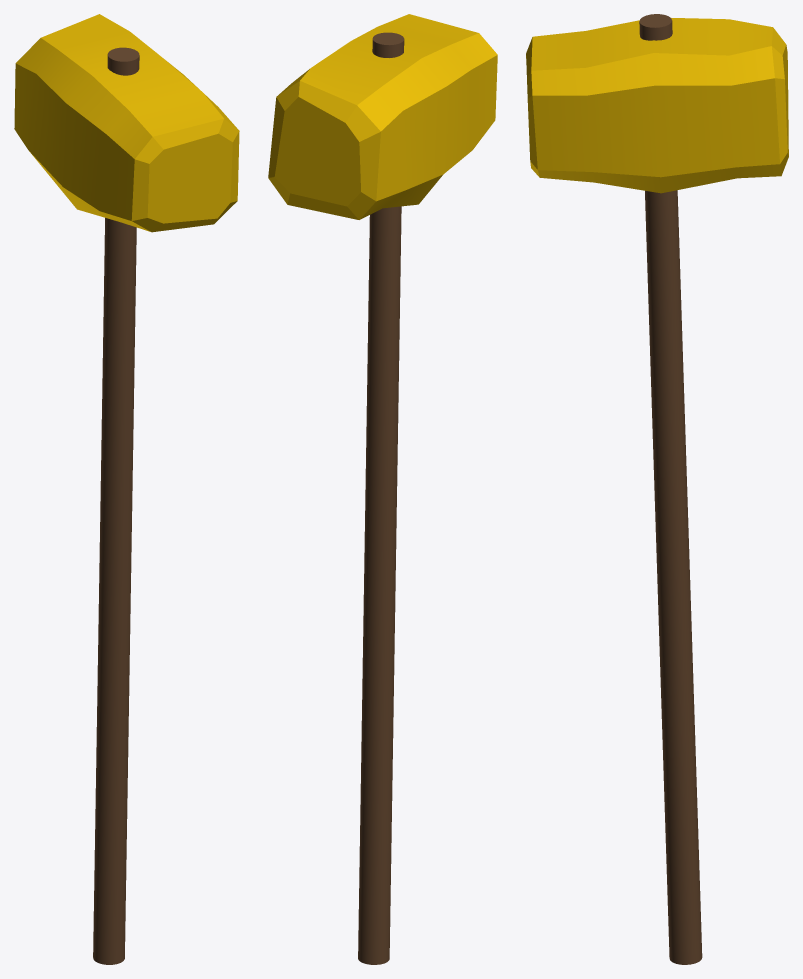
File: Hammer.fbx
3 views of the same model, side by side, from view 1: azimuth 30°, elevation 25°; view 2: azimuth 150°, elevation 25°; view 3: azimuth 270°, elevation 25° (orthographic). The views are drawn at different scales.
Visible parts, largest first — view 1: pCube8; view 2: pCube8; view 3: pCube8.
Boxes of the visible parts, box(x1,y1,x2,y2) form: pCube8: box(14, 14, 239, 964); pCube8: box(268, 14, 497, 964); pCube8: box(526, 14, 788, 964).
Size of the model in its own units: 55.37 by 390 by 99.1.
